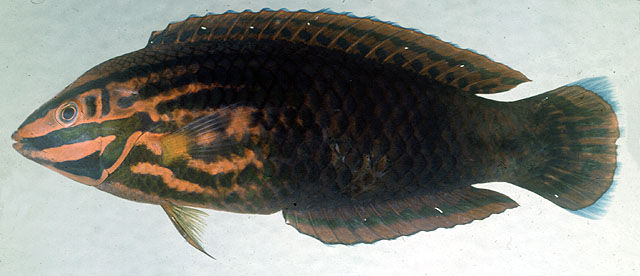fish: (11, 7, 624, 262)
